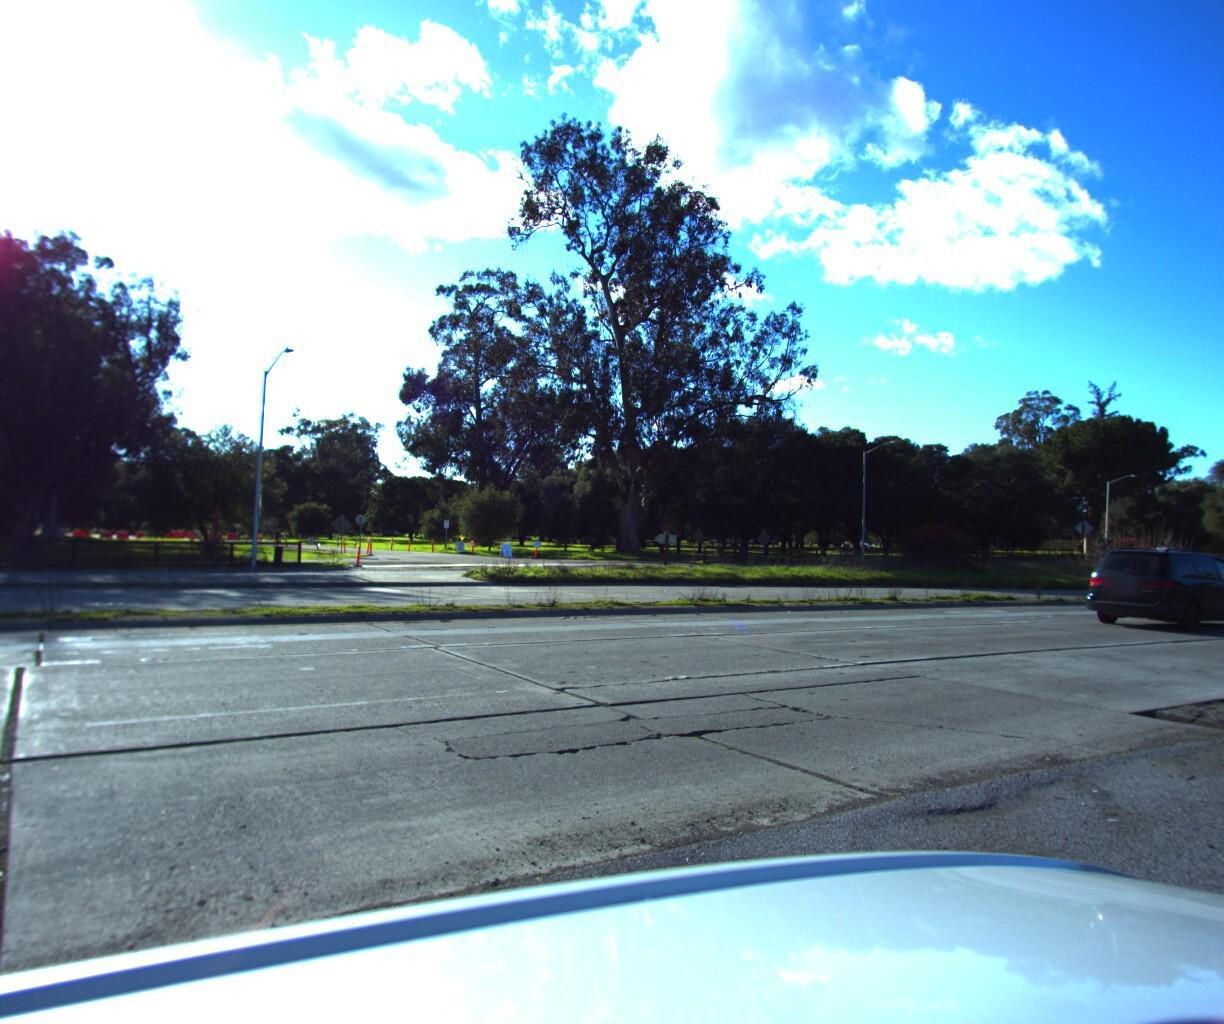car: (1073, 539, 1224, 628)
